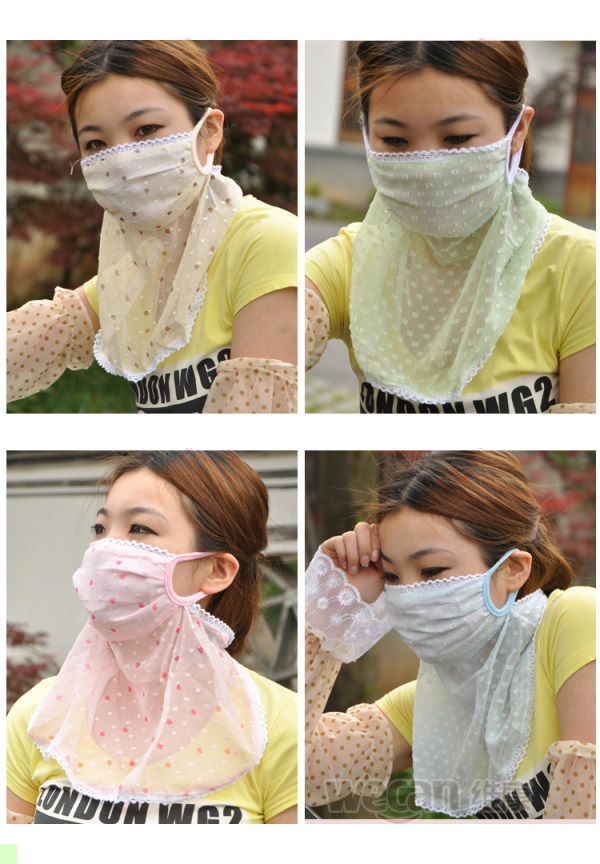face_mask: (368, 59, 506, 226), (80, 463, 199, 636), (74, 73, 197, 222), (379, 512, 498, 661)
